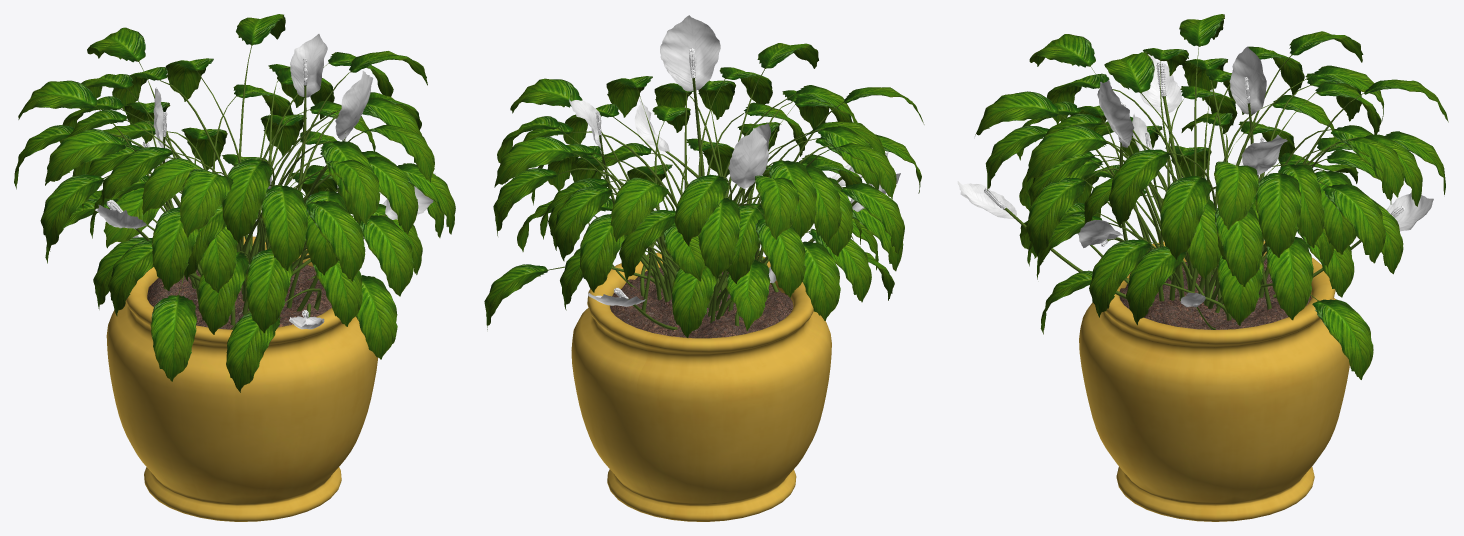
File: sf-peace-lily.glb
The picture shows the model from 3 angles, left to right: view 1: azimuth 30°, elevation 25°; view 2: azimuth 150°, elevation 25°; view 3: azimuth 270°, elevation 25°; orthographic projection. The views are drawn at different scales.
Parts seen in each view (by area): view 1: Object_8, Object_5, Object_7, Object_11, Object_4; view 2: Object_8, Object_5, Object_7, Object_11, Object_4; view 3: Object_8, Object_5, Object_7, Object_11, Object_4, Object_10.
Part boxes in pixels (x1=…): Object_8: x1=14, y1=14, x2=455, y2=392; Object_5: x1=106, y1=236, x2=377, y2=521; Object_7: x1=96, y1=45, x2=386, y2=329; Object_11: x1=95, y1=34, x2=435, y2=329; Object_4: x1=147, y1=262, x2=331, y2=329; Object_8: x1=484, y1=43, x2=924, y2=337; Object_5: x1=571, y1=252, x2=831, y2=521; Object_7: x1=549, y1=69, x2=856, y2=330; Object_11: x1=568, y1=15, x2=900, y2=306; Object_4: x1=610, y1=267, x2=793, y2=338; Object_8: x1=975, y1=14, x2=1448, y2=379; Object_5: x1=1079, y1=240, x2=1349, y2=521; Object_7: x1=1004, y1=47, x2=1362, y2=329; Object_11: x1=957, y1=46, x2=1433, y2=307; Object_4: x1=1119, y1=258, x2=1311, y2=329; Object_10: x1=984, y1=62, x2=1404, y2=246.
Bounding box in the file's own units: 0.6585 × 0.7 × 0.7194.
6 materials, 4 textured.
